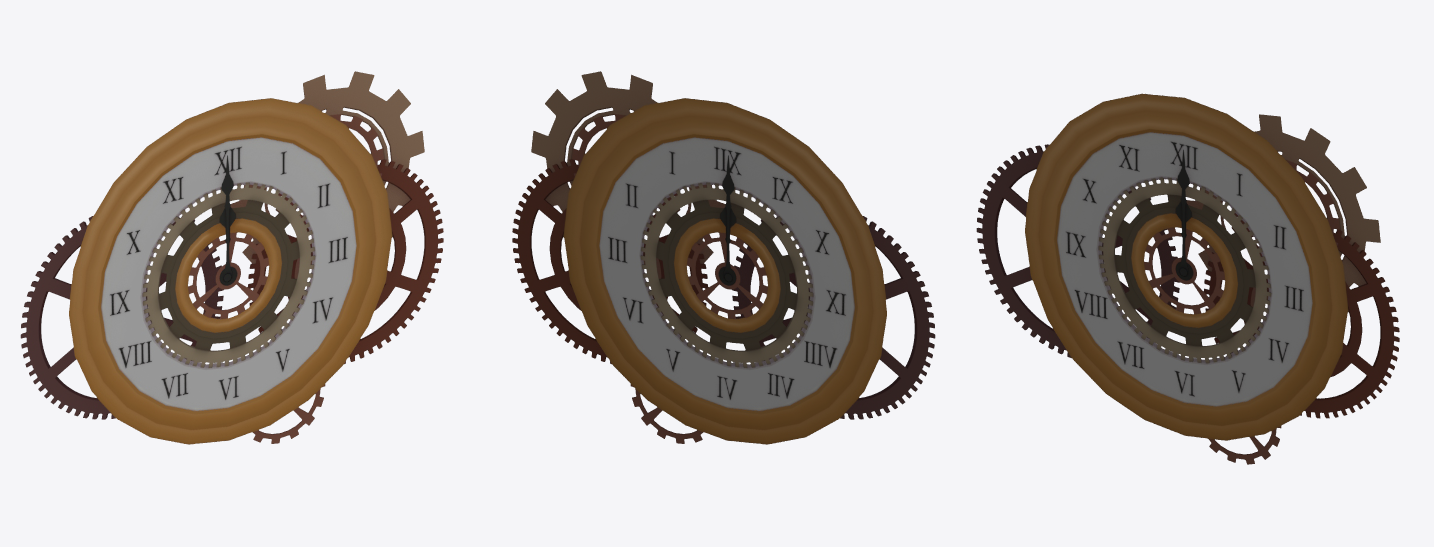
Rendered from gear_clock_plane.fbx.
3 views of the same model, side by side, from view 1: azimuth 30°, elevation 25°; view 2: azimuth 150°, elevation 25°; view 3: azimuth 330°, elevation 25° (orthographic).
Visible parts, largest first — view 1: pPlane1; view 2: pPlane1; view 3: pPlane1.
Part boxes in pixels (x1=…): pPlane1: x1=20, y1=71, x2=443, y2=444; pPlane1: x1=512, y1=71, x2=935, y2=444; pPlane1: x1=976, y1=93, x2=1399, y2=464.
Bounding box in the file's own units: 7.34 × 6.39 × 3.92e-16.
1 material, 1 textured.
